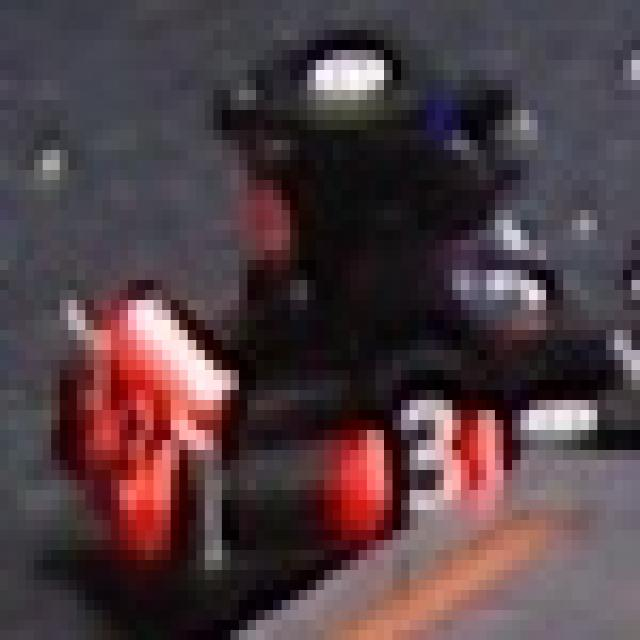R4: (324, 360, 521, 530), (68, 390, 188, 550)
